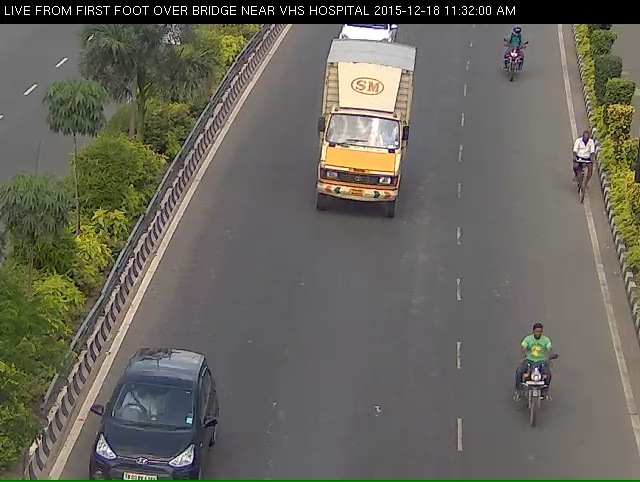Bus: (310, 49, 414, 239)
Car: (97, 378, 209, 482), (333, 14, 404, 55), (333, 17, 404, 57)
Person: (509, 331, 576, 460), (500, 31, 539, 95)
